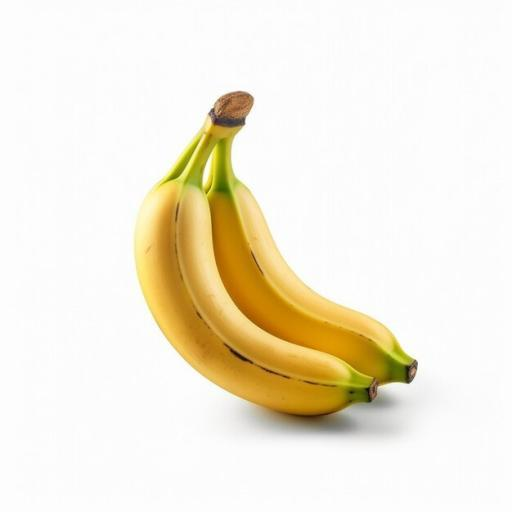banana: (135, 167, 356, 420), (209, 172, 408, 381)
